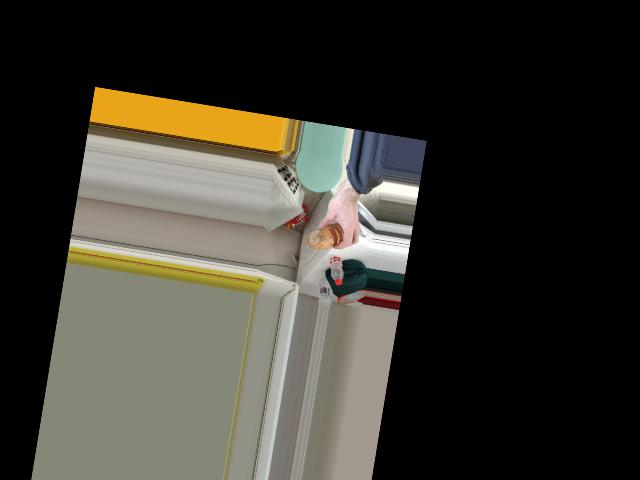sweet_potato: (312, 219, 346, 254)
